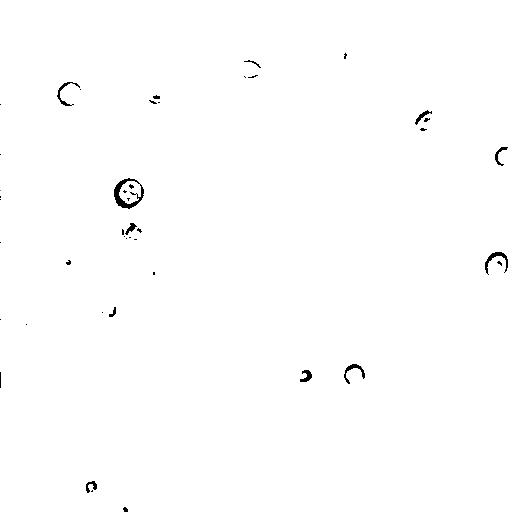micro-algae: (471, 0, 511, 92), (95, 194, 148, 247), (363, 79, 403, 116), (49, 247, 86, 281), (111, 177, 147, 210), (142, 261, 173, 292), (55, 81, 85, 107), (485, 249, 511, 277), (0, 365, 25, 393), (109, 493, 139, 512), (345, 364, 367, 389), (413, 110, 439, 131), (158, 281, 185, 301), (17, 316, 40, 339), (96, 297, 118, 321), (238, 58, 263, 79), (341, 42, 361, 67), (121, 221, 143, 239), (494, 145, 511, 167), (155, 1, 175, 19), (295, 368, 314, 386), (83, 478, 99, 495)
